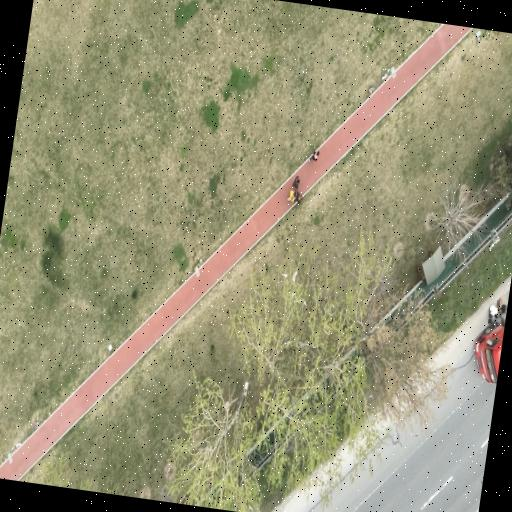person: (489, 303, 497, 316), (287, 188, 295, 201), (294, 191, 302, 202), (292, 175, 298, 189), (310, 150, 318, 160)
truck: (474, 306, 506, 384)
